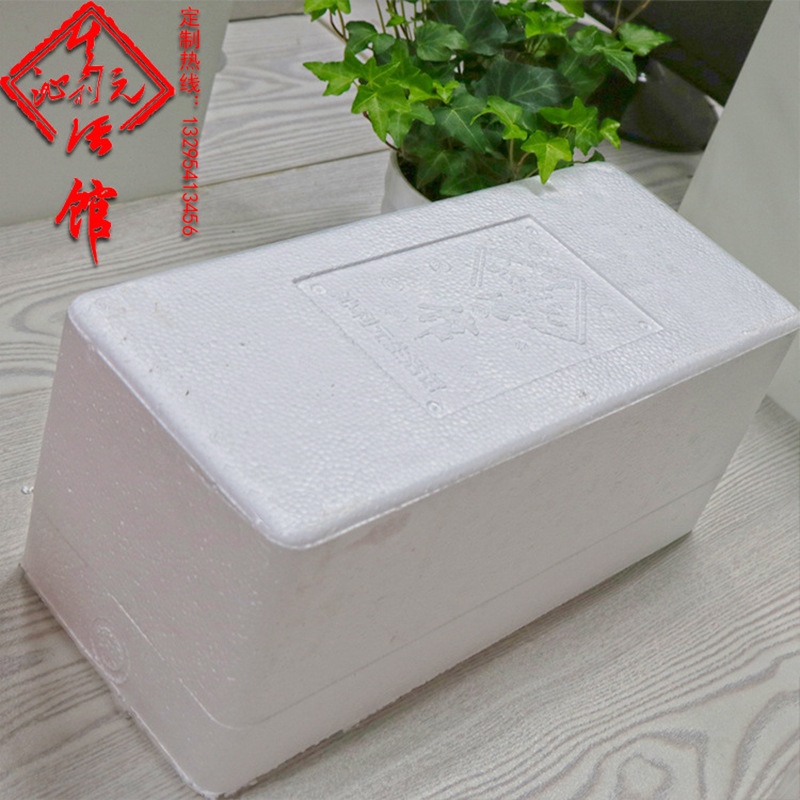Boxes: (25, 165, 800, 786)
